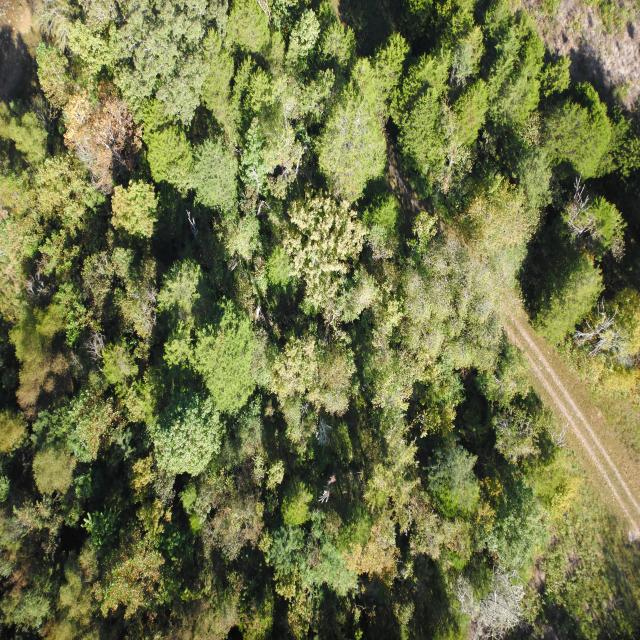Area of Interest: (4, 5, 640, 631)
